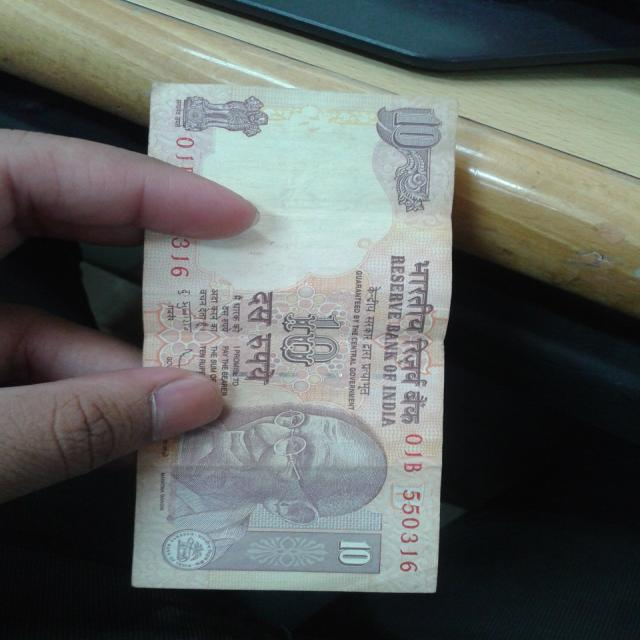10rs: (153, 85, 446, 593)
